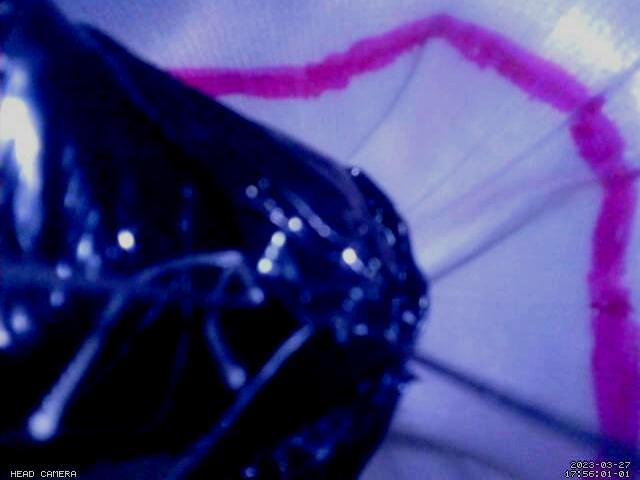red-circle: (167, 13, 640, 480)
